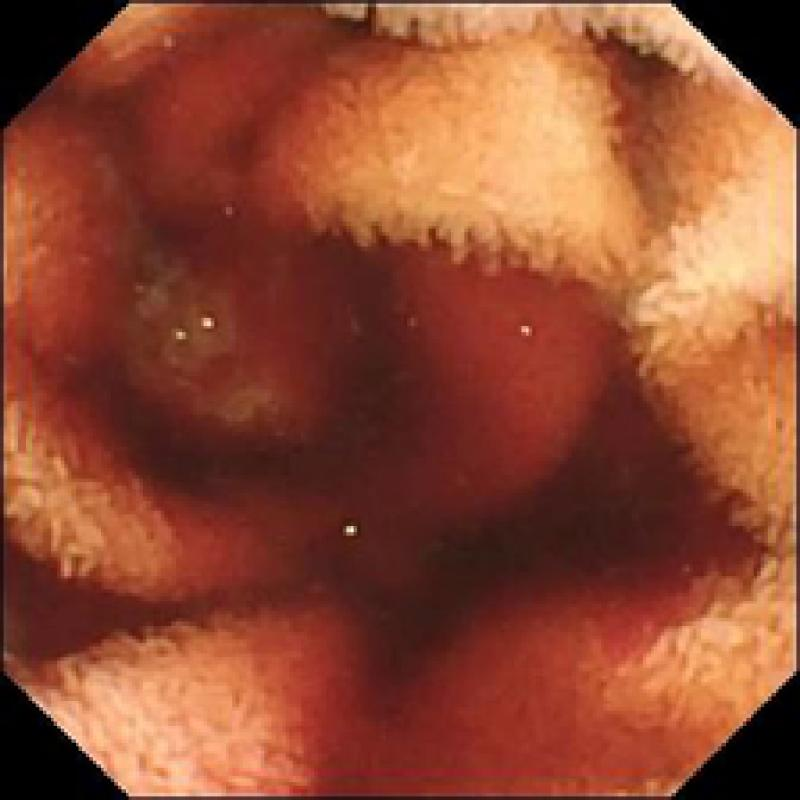bleeding: (0, 32, 764, 800)
